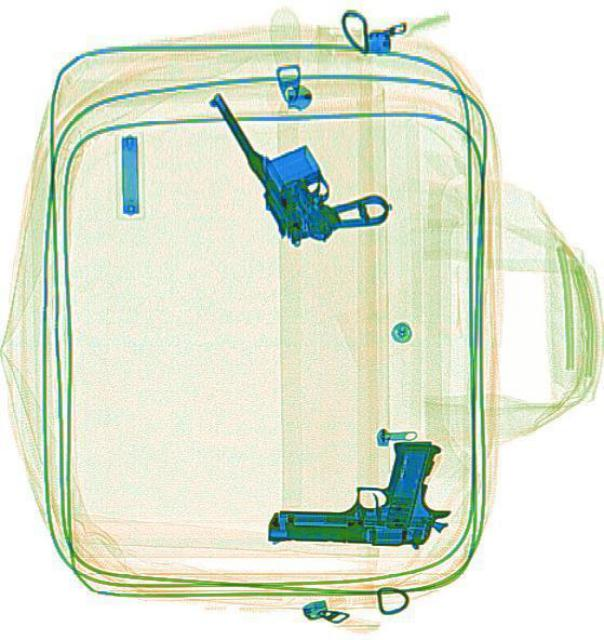Gun: (204, 49, 392, 264), (262, 436, 450, 548)
